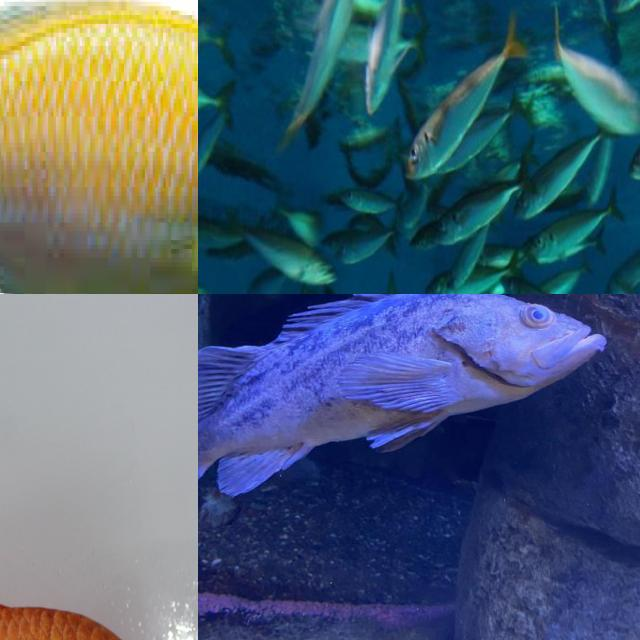fish: (198, 294, 609, 516), (0, 0, 198, 294), (0, 525, 198, 640)
